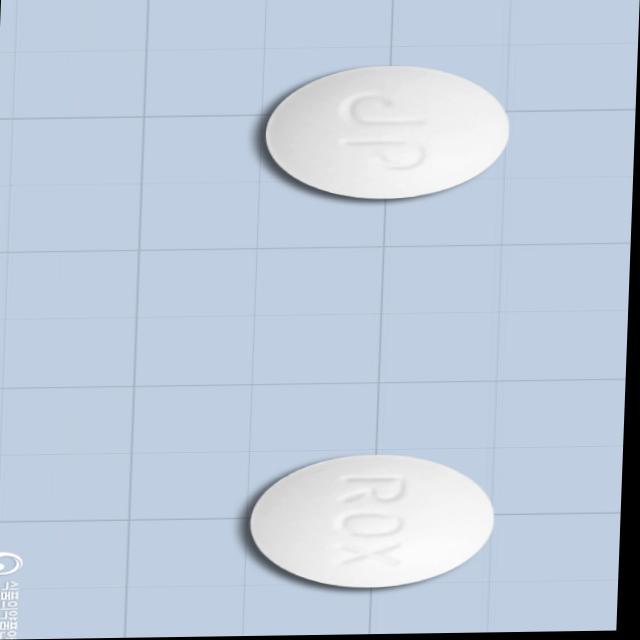Clarid - 500mg: (249, 455, 505, 594), (262, 65, 512, 204)
